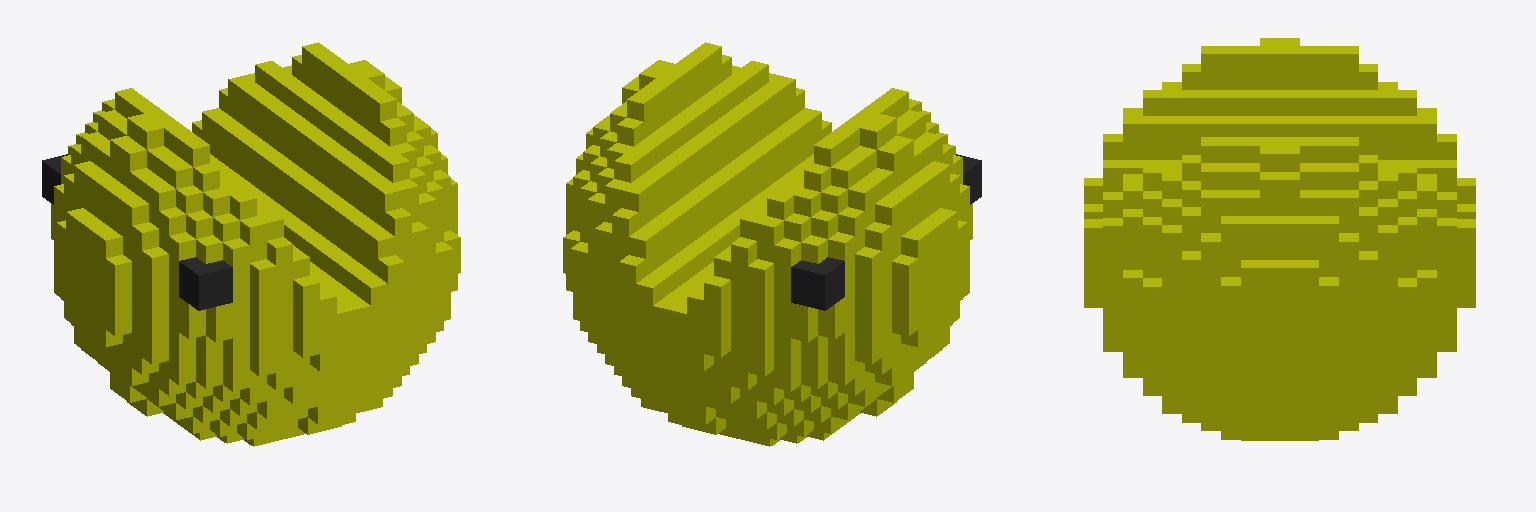
3 renders of one model, left to right at view 1: azimuth 30°, elevation 25°; view 2: azimuth 150°, elevation 25°; view 3: azimuth 270°, elevation 25°, orthographic.
Visible parts, largest first — view 1: object 1; view 2: object 1; view 3: object 1.
Part boxes in pixels (bbox=[...]): object 1: bbox=[42, 42, 460, 446]; object 1: bbox=[563, 42, 981, 446]; object 1: bbox=[1084, 38, 1475, 440].
Bounding box in the file's own units: 2 × 1.8 × 2.
Materials: 1 (1 with a texture image).